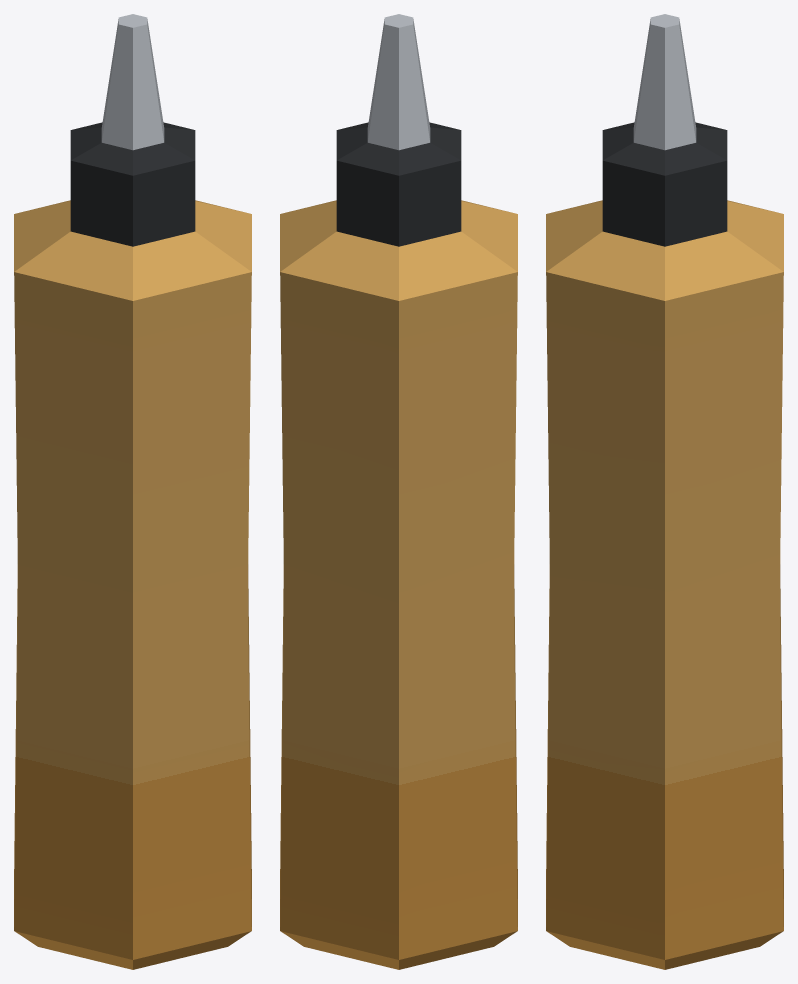
Rendered from SM_Prop_SauceBottle_01.glb.
3 views of the same model, side by side, from view 1: azimuth 30°, elevation 25°; view 2: azimuth 150°, elevation 25°; view 3: azimuth 270°, elevation 25° (orthographic).
Parts seen in each view (by area): view 1: SM_Prop_SauceBottle_01; view 2: SM_Prop_SauceBottle_01; view 3: SM_Prop_SauceBottle_01.
Boxes of the visible parts, x1,y1,x2,y2 form: SM_Prop_SauceBottle_01: [14, 14, 251, 969]; SM_Prop_SauceBottle_01: [280, 14, 517, 969]; SM_Prop_SauceBottle_01: [546, 14, 783, 969].
Bounding box in the file's own units: 0.1339 × 0.4856 × 0.1159.
1 material, 1 textured.
